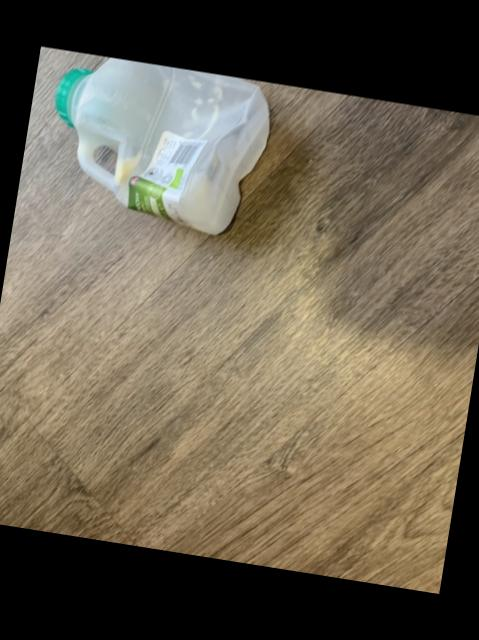plastic: (53, 57, 266, 234)
